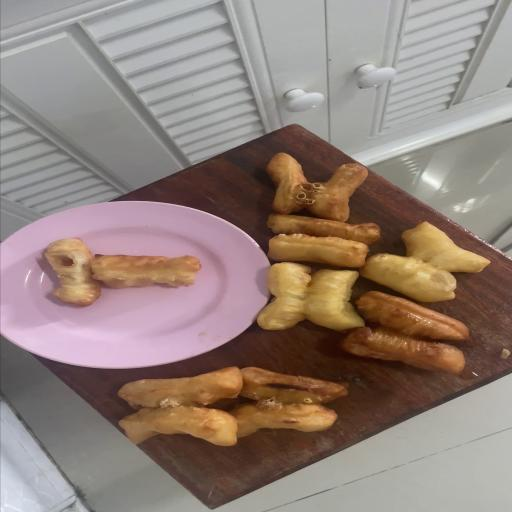street_golden_defect: (119, 367, 345, 447)
